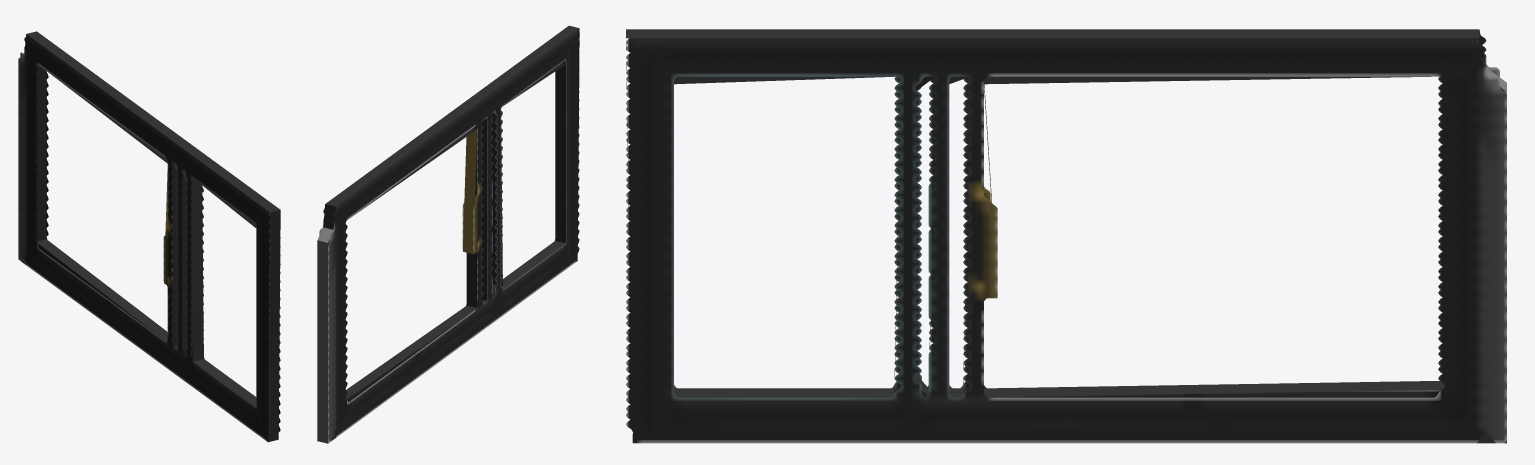
The model's file is pz_native_fixtures_windows_metal_48_frame.obj.
The picture shows the model from 3 angles, left to right: view 1: azimuth 30°, elevation 25°; view 2: azimuth 150°, elevation 25°; view 3: azimuth 270°, elevation 25°; orthographic projection. The views are drawn at different scales.
Visible parts, largest first — view 1: pz_native_fixtures_windows_metal_48_frame; view 2: pz_native_fixtures_windows_metal_48_frame; view 3: pz_native_fixtures_windows_metal_48_frame.
Boxes of the visible parts, <box> form: pz_native_fixtures_windows_metal_48_frame: <box>18,31,280,442</box>; pz_native_fixtures_windows_metal_48_frame: <box>317,25,579,443</box>; pz_native_fixtures_windows_metal_48_frame: <box>626,29,1506,443</box>.
Size of the model in its own units: 0.04 by 0.875 by 1.68.
Materials: 1 (1 with a texture image).
